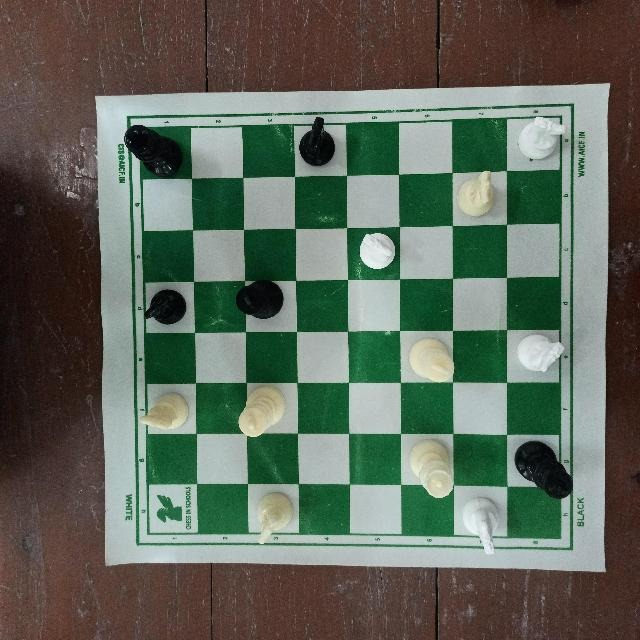black-king: (512, 439, 574, 501), (121, 124, 185, 176), (232, 276, 288, 323)
black-knight: (298, 113, 341, 168), (141, 290, 189, 332)
white-king: (236, 384, 293, 440), (406, 338, 456, 386)
white-knight: (461, 495, 505, 557), (517, 112, 565, 164), (515, 330, 565, 375), (252, 493, 294, 543), (454, 174, 498, 220), (140, 391, 189, 429), (356, 230, 398, 274)
white-queen: (407, 438, 456, 499)
